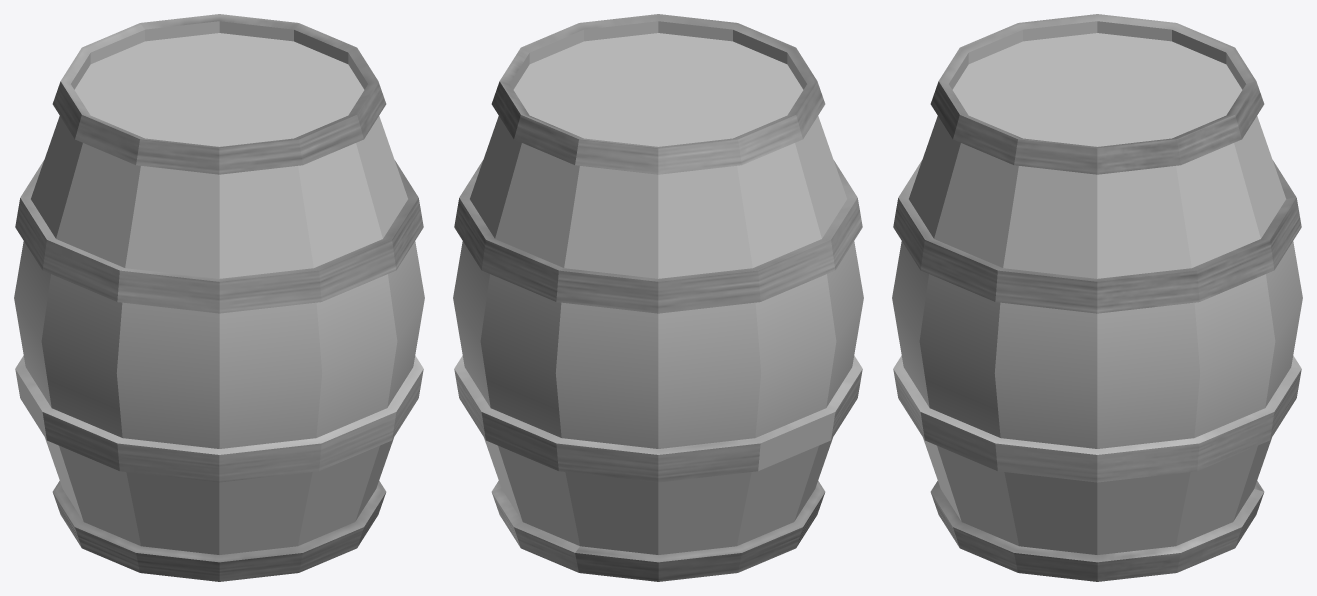
Rendered from tonneau.fbx.
The picture shows the model from 3 angles, left to right: view 1: azimuth 30°, elevation 25°; view 2: azimuth 150°, elevation 25°; view 3: azimuth 270°, elevation 25°; orthographic projection.
Parts seen in each view (by area): view 1: pCylinder4; view 2: pCylinder4; view 3: pCylinder4.
Part boxes in pixels (x1,y1,x2,y2): pCylinder4: (14,14,424,581); pCylinder4: (453,14,863,581); pCylinder4: (892,14,1302,581).
Size of the model in its own units: 2.13 by 2.49 by 2.13.
